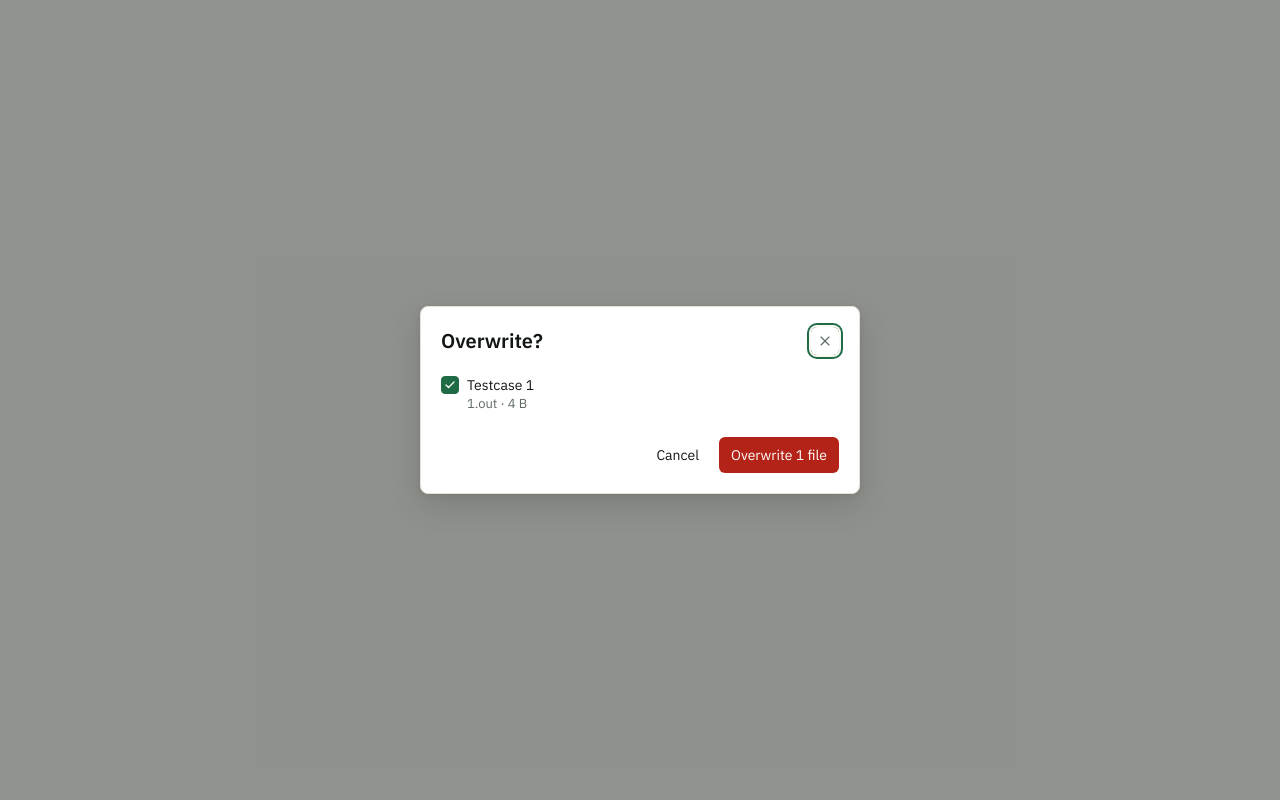
Test: ConfirmOverwriteDialog › cannot confirm with nothing ticked
The width and height of the screenshot is (1280, 800).
Click the checkbox named "Testcase 1". click: (450,385)
box: [441,376,459,394]
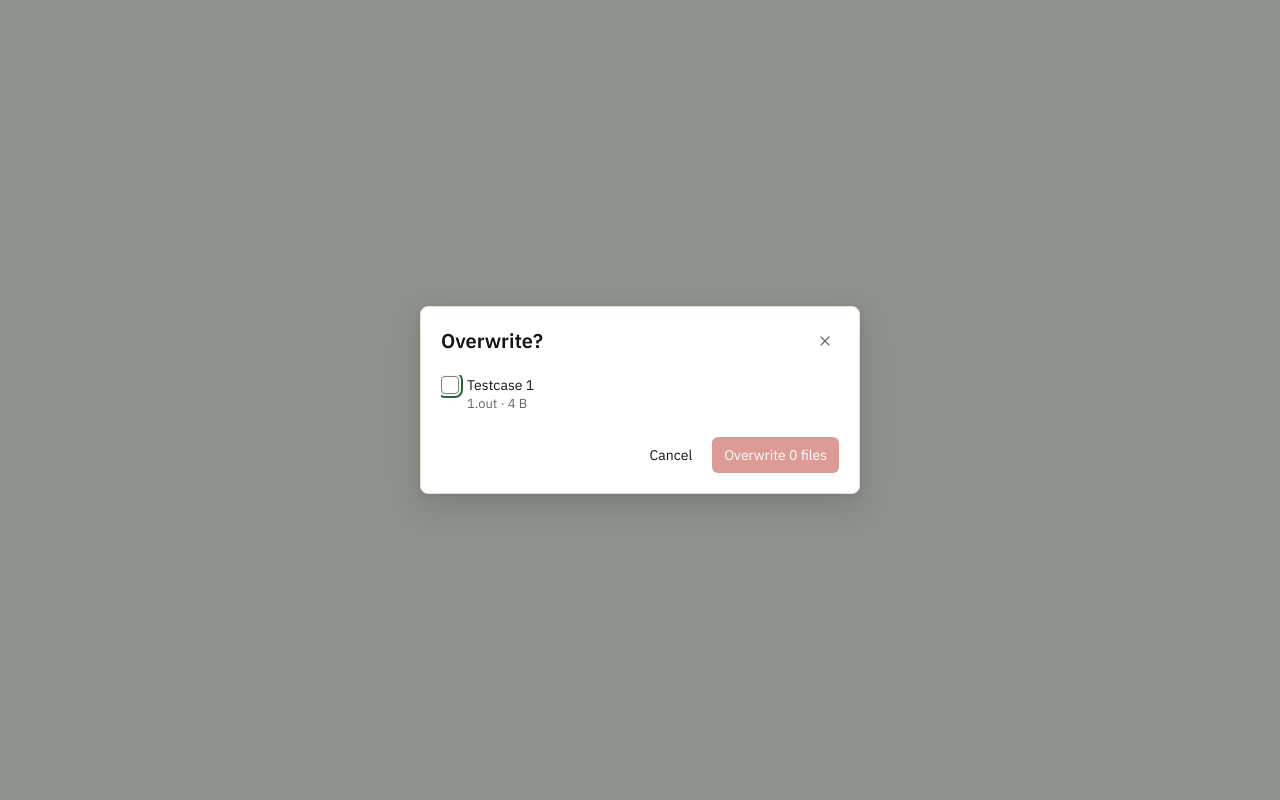
Check: the button "Overwrite 0 files" is disabled, box [712,437,839,473]
